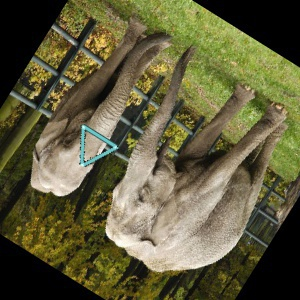triangle: (76, 120, 121, 167)
